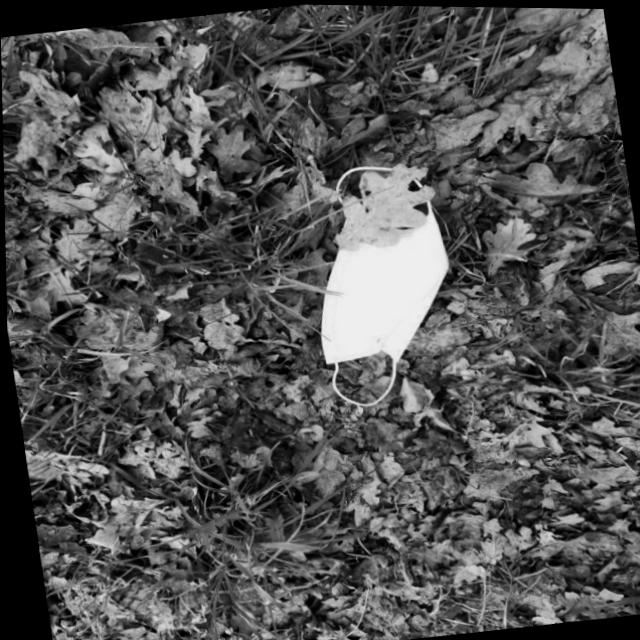Mask: (285, 150, 466, 414)
